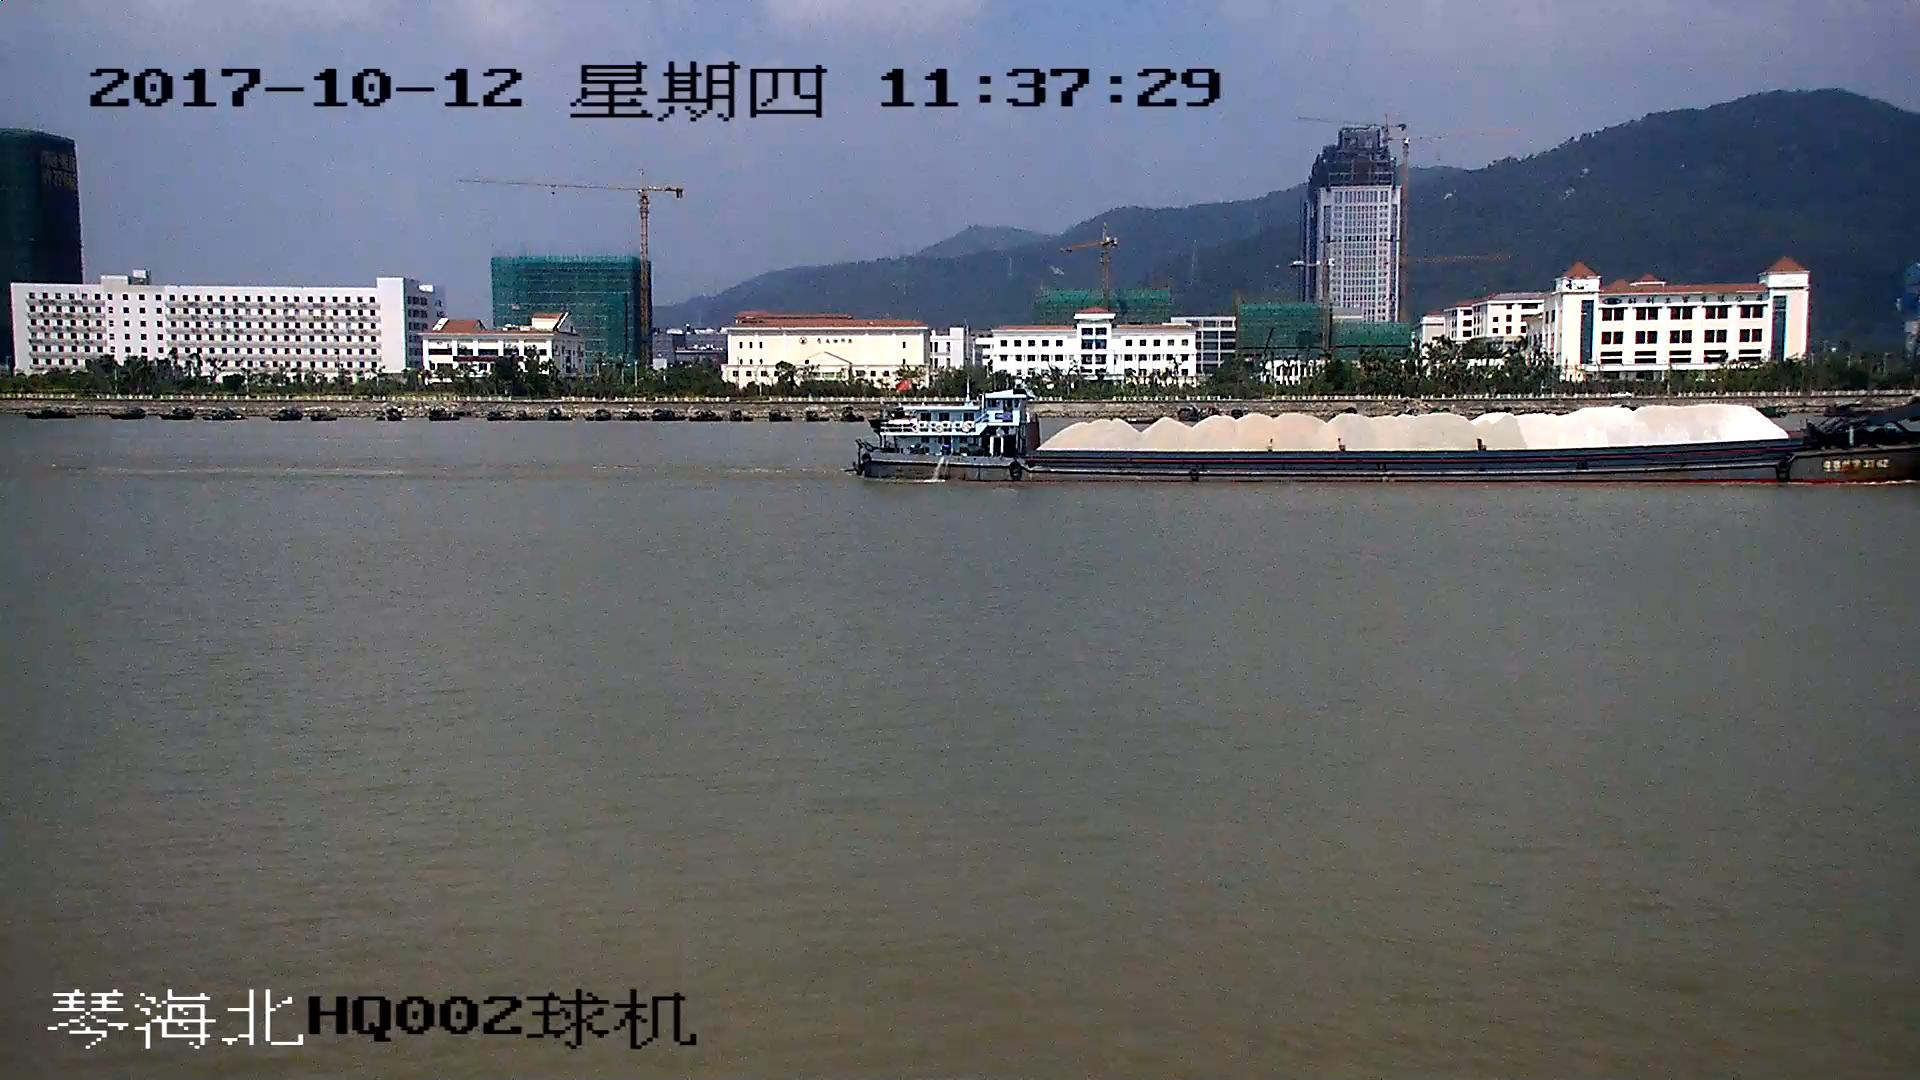ore carrier: (863, 388, 1920, 485)
